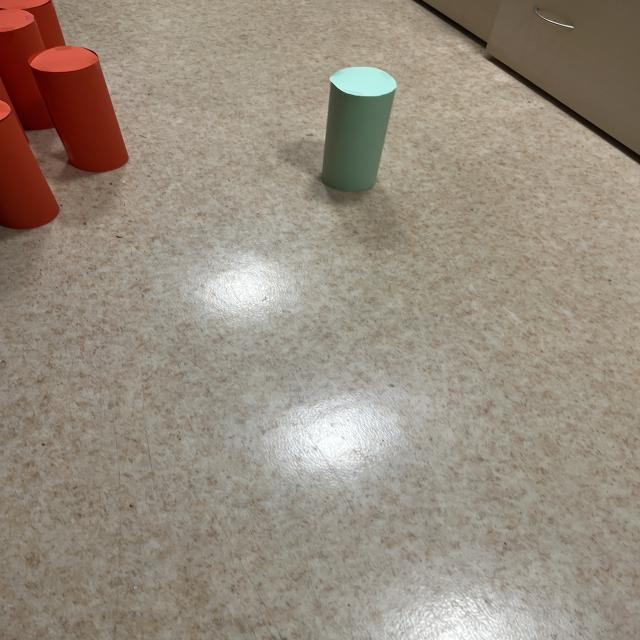meta: (321, 67, 397, 192)
